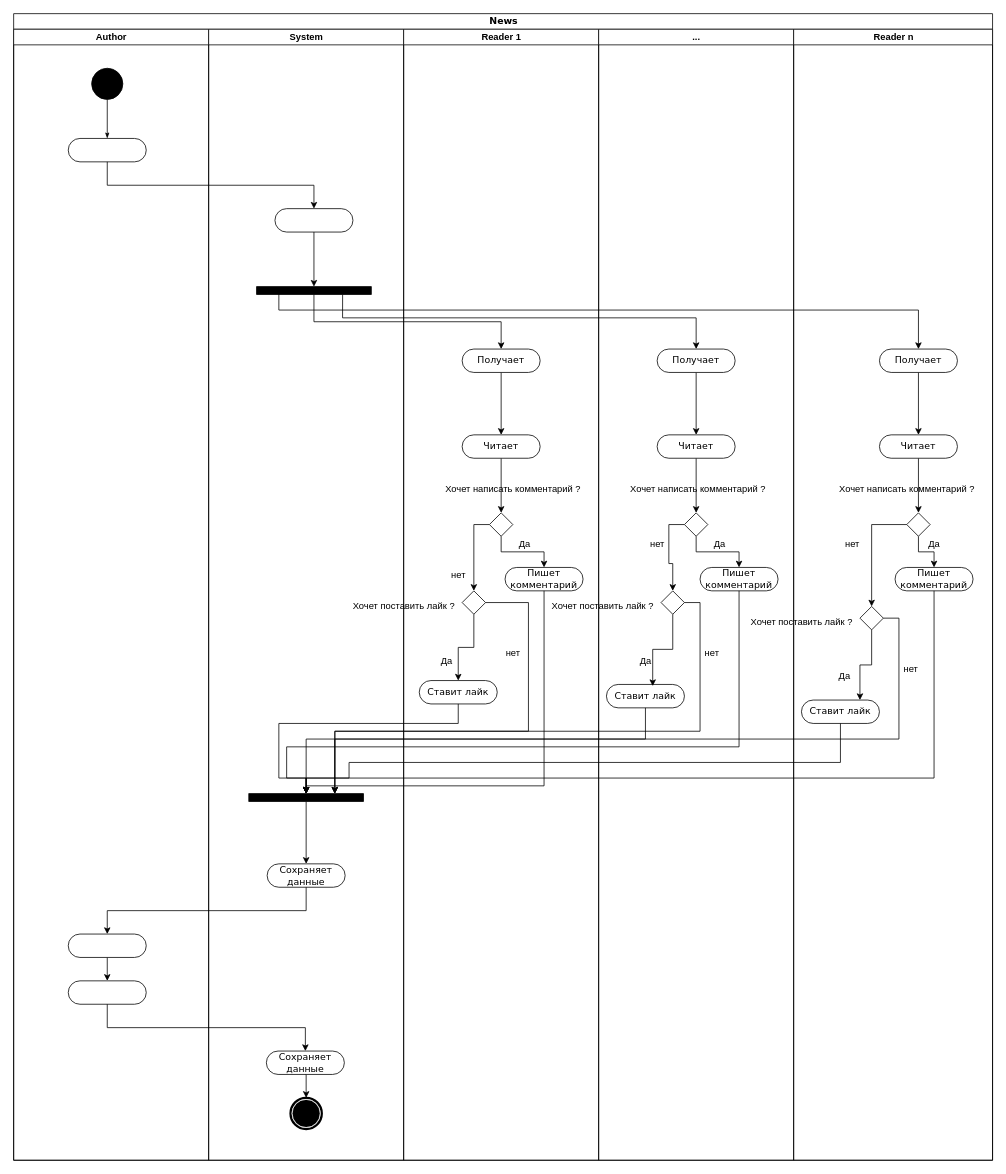
The diagram is 1006 pixels wide and 1174 high, and some of its shapes have lost their labels. The centre of each missing label's shape, as x and y in pixels:
Корректирует новость: the point at 106,992
Создаёт: the point at 106,150
Сохраняет: the point at 313,220
Читает комментарии: the point at 106,945
